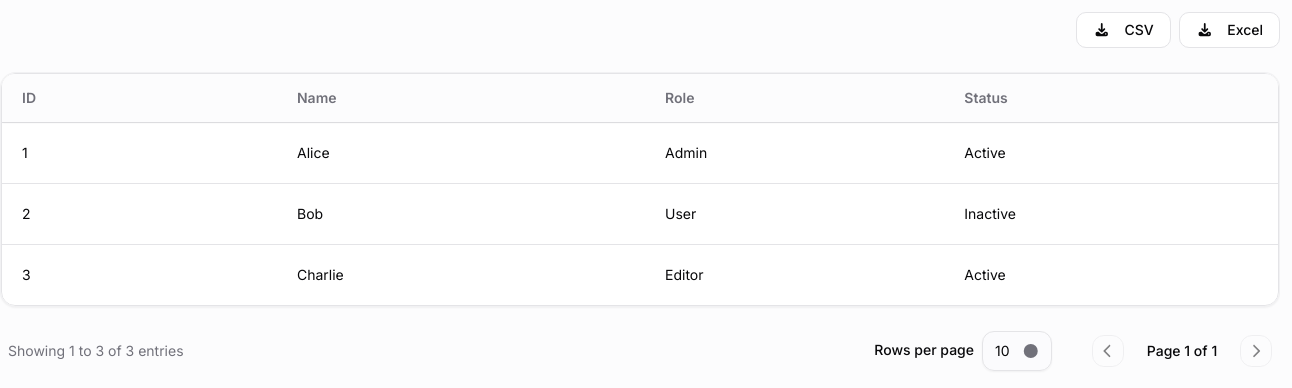
Test: DataTable Component › sorts data when clicking sortable column headers
Step 1. Click the column heading "Name" → click(317, 97), box x1=277 y1=74 x2=645 y2=122
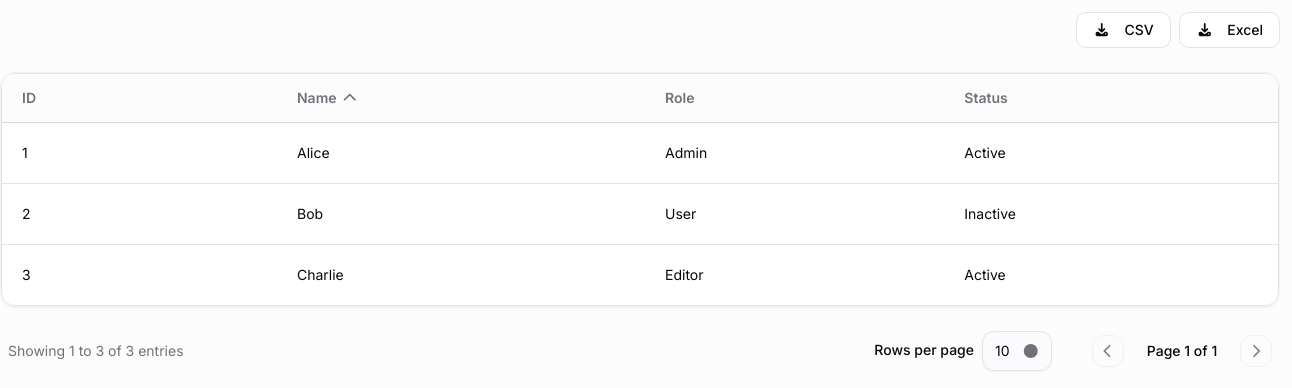
Check: the row "1 Alice Admin Active" is shown, box x1=2 y1=122 x2=1278 y2=183
Note: Click again for descending
Step 2. Click the column heading "Name" → click(317, 97), box x1=277 y1=74 x2=645 y2=122
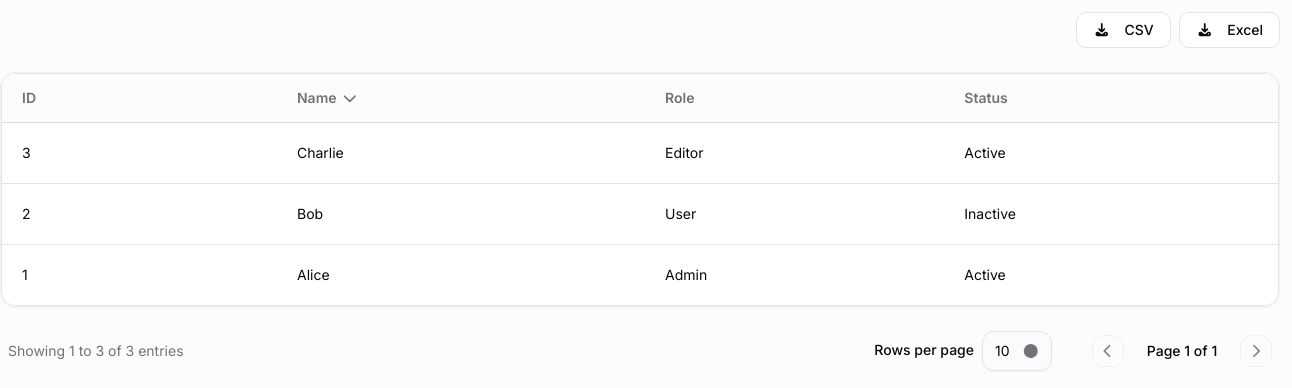
Check: the row "3 Charlie Editor Active" is shown, box x1=2 y1=122 x2=1278 y2=183
